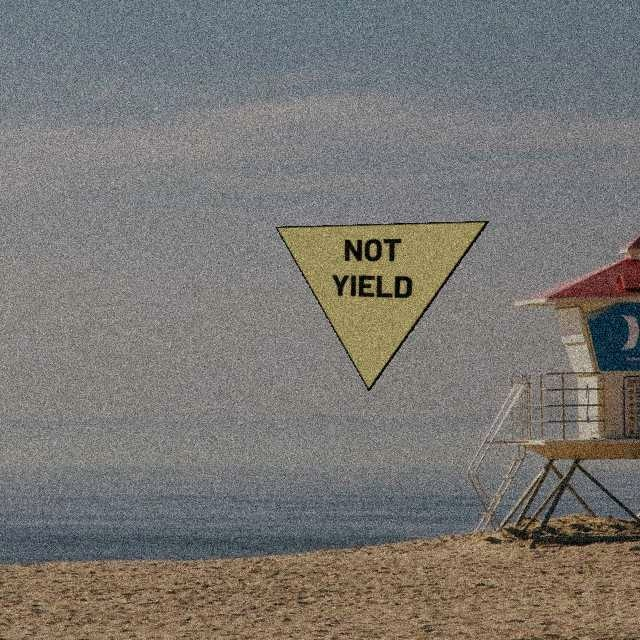NOT_YIELD: (275, 220, 489, 391)
